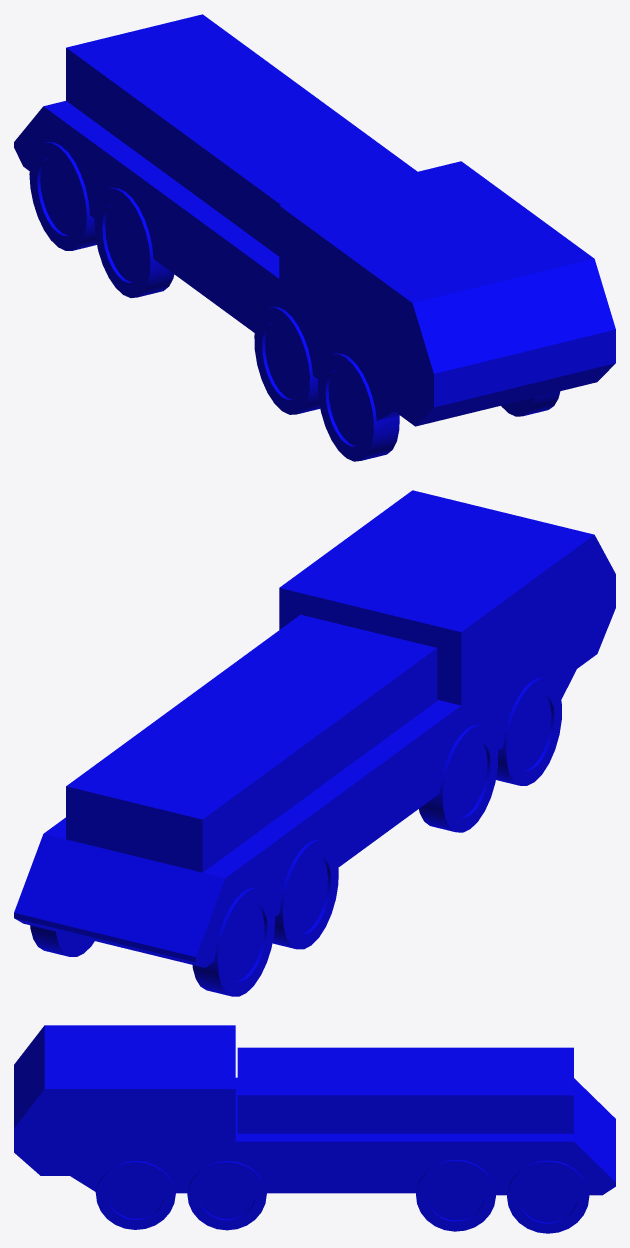
The model's file is Game_Piece_Troop_5_Blue_01.fbx.
The picture shows the model from 3 angles, top to bottom: view 1: azimuth 30°, elevation 25°; view 2: azimuth 150°, elevation 25°; view 3: azimuth 270°, elevation 25°; orthographic projection. The views are drawn at different scales.
Visible parts, largest first — view 1: Game_Piece_Troop_5_Blue_01; view 2: Game_Piece_Troop_5_Blue_01; view 3: Game_Piece_Troop_5_Blue_01.
Part boxes in pixels (<box>): Game_Piece_Troop_5_Blue_01: <box>14,14,615,461</box>; Game_Piece_Troop_5_Blue_01: <box>14,490,615,996</box>; Game_Piece_Troop_5_Blue_01: <box>14,1025,615,1233</box>.
Bounding box in the file's own units: 11.9 × 12.11 × 45.96.
